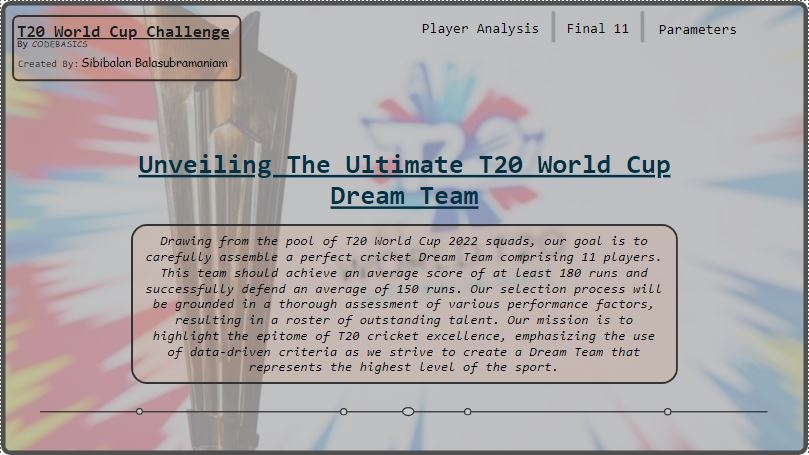

This screenshot's page, from the dashboard's own definition file:
{"tool":"powerbi","page":{"name":"Home","canvas":[1280,720],"ordinal":0},"visuals":[{"type":"image","box":[0,0,1280,720],"z":0},{"type":"shape","box":[25.3,31.8,345.6,30.2],"z":0,"group":"g1"},{"type":"shape","box":[0,0,1281,720.6],"z":1000},{"type":"shape","box":[48.3,58.8,118.1,34.6],"z":1000,"group":"g1"},{"type":"actionButton","box":[662.4,21.6,198.7,41.8],"z":2000},{"type":"shape","box":[26.7,90.6,103.7,27.4],"z":2000,"group":"g1"},{"type":"actionButton","box":[892.8,21.6,110.9,41.8],"z":3000},{"type":"shape","box":[126.1,84.7,239,31.7],"z":3000,"group":"g1"},{"type":"actionButton","box":[1035.4,23,142.6,41.8],"z":4000},{"type":"shape","box":[25.3,58.8,27.4,34.6],"z":4000,"group":"g1"},{"type":"shape","box":[861.1,16,30,50],"z":5000},{"type":"shape","box":[1003.7,16,30,50],"z":6000},{"type":"shape","box":[198.3,226.7,884.2,113.8],"z":7000},{"type":"shape","box":[9.2,14.4,380.2,121],"z":8000},{"type":"shape","box":[61.9,627.4,1155.2,50],"z":8000,"group":"g2"},{"type":"group","id":"g1","title":"Group 1","box":[25.3,31.8,345.6,86.2],"z":9000},{"type":"shape","box":[538.3,646.4,11.9,12.1],"z":9000,"group":"g2"},{"type":"shape","box":[206.3,353.6,868.3,254],"z":10000},{"type":"shape","box":[636.4,645.1,19.9,14.5],"z":10000,"group":"g2"},{"type":"shape","box":[229.4,365.5,822.2,230.2],"z":11000},{"type":"shape","box":[735.3,646.4,11.9,12.1],"z":11000,"group":"g2"},{"type":"group","id":"g2","title":"Group 3","box":[61.9,627.4,1155.2,50],"z":12000},{"type":"shape","box":[214.2,646.9,11,11],"z":13000,"group":"g2"},{"type":"shape","box":[1052.7,646.4,11.9,11.9],"z":15000,"group":"g2"}]}

Visuals, with their boxes in screenshot pixels (x1, y1, x2, y2), scaled from the page's 1280x720 canvas onto the 809x455 screenshot:
image: x1=0, y1=0, x2=808, y2=454
shape: x1=16, y1=20, x2=234, y2=39
shape: x1=0, y1=0, x2=808, y2=454
shape: x1=31, y1=37, x2=105, y2=59
actionButton: x1=419, y1=14, x2=544, y2=40
shape: x1=17, y1=57, x2=82, y2=75
actionButton: x1=564, y1=14, x2=634, y2=40
shape: x1=80, y1=54, x2=231, y2=74
actionButton: x1=654, y1=15, x2=745, y2=41
shape: x1=16, y1=37, x2=33, y2=59
shape: x1=544, y1=10, x2=563, y2=42
shape: x1=634, y1=10, x2=653, y2=42
shape: x1=125, y1=143, x2=684, y2=215
shape: x1=6, y1=9, x2=246, y2=86
shape: x1=39, y1=396, x2=769, y2=428
"Group 1" group: x1=16, y1=20, x2=234, y2=75
shape: x1=340, y1=408, x2=348, y2=416
shape: x1=130, y1=223, x2=679, y2=384
shape: x1=402, y1=408, x2=415, y2=417
shape: x1=145, y1=231, x2=665, y2=376
shape: x1=465, y1=408, x2=472, y2=416
"Group 3" group: x1=39, y1=396, x2=769, y2=428
shape: x1=135, y1=409, x2=142, y2=416
shape: x1=665, y1=408, x2=673, y2=416
